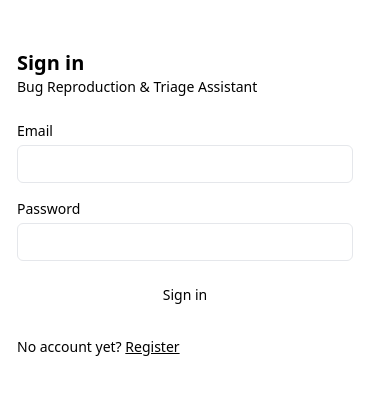
Test case: Login › shows the generic error message on a failed login
The width and height of the screenshot is (371, 412).
Type "user@example.com" into the field labelled "Email".
click(185, 164); type("user@example.com")  # box x1=17 y1=145 x2=353 y2=183
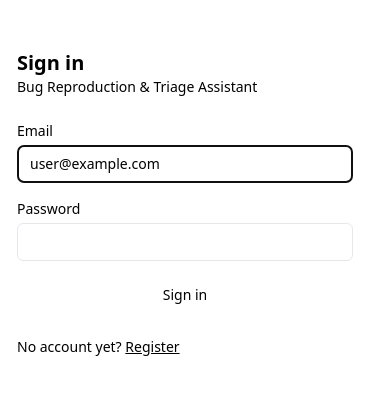
Type "wrong-password" into the password field labelled "Password".
click(185, 242); type("wrong-password")  # box x1=17 y1=223 x2=353 y2=261
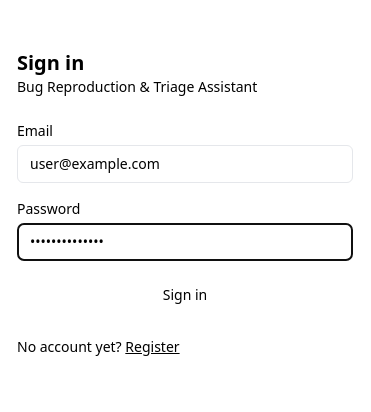
Click the button "Sign in".
click(185, 295)  # box x1=17 y1=277 x2=353 y2=313
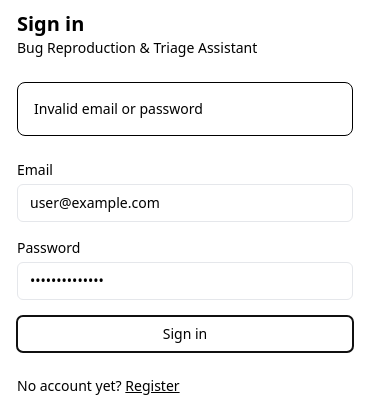
Check: the text "Invalid email or password" is shown, box x1=17 y1=82 x2=353 y2=136
